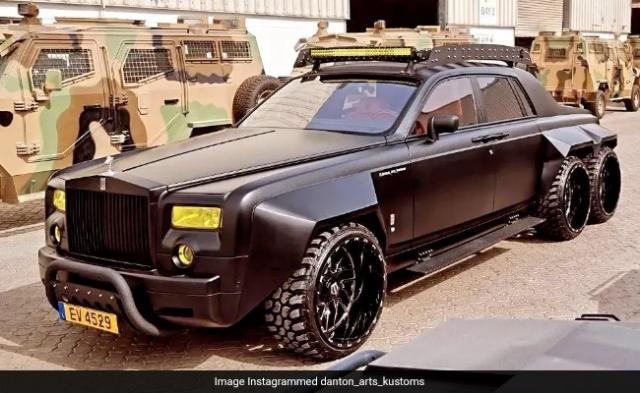rolls-royce: (39, 44, 622, 360)
